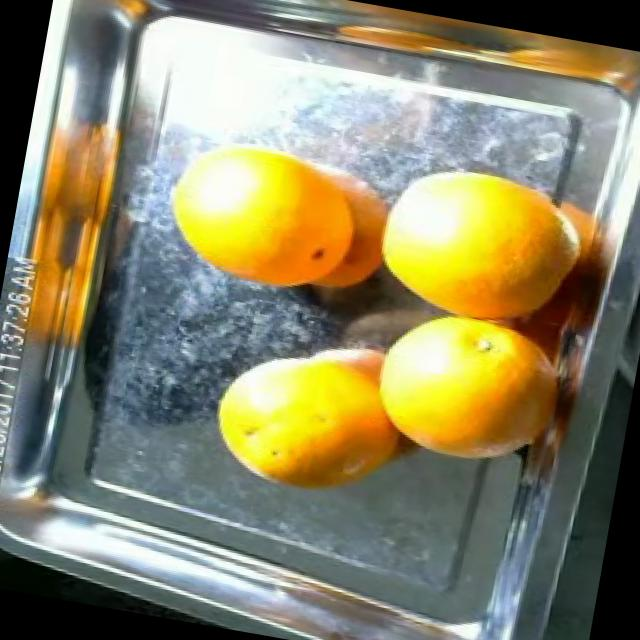Fruit: (134, 114, 377, 312), (188, 322, 417, 519)
